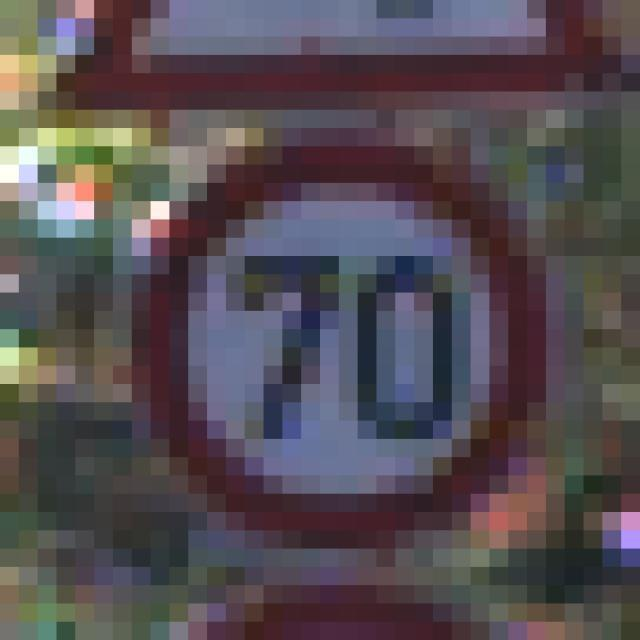Ograniczenie predkosci do 70: (138, 138, 536, 552)
